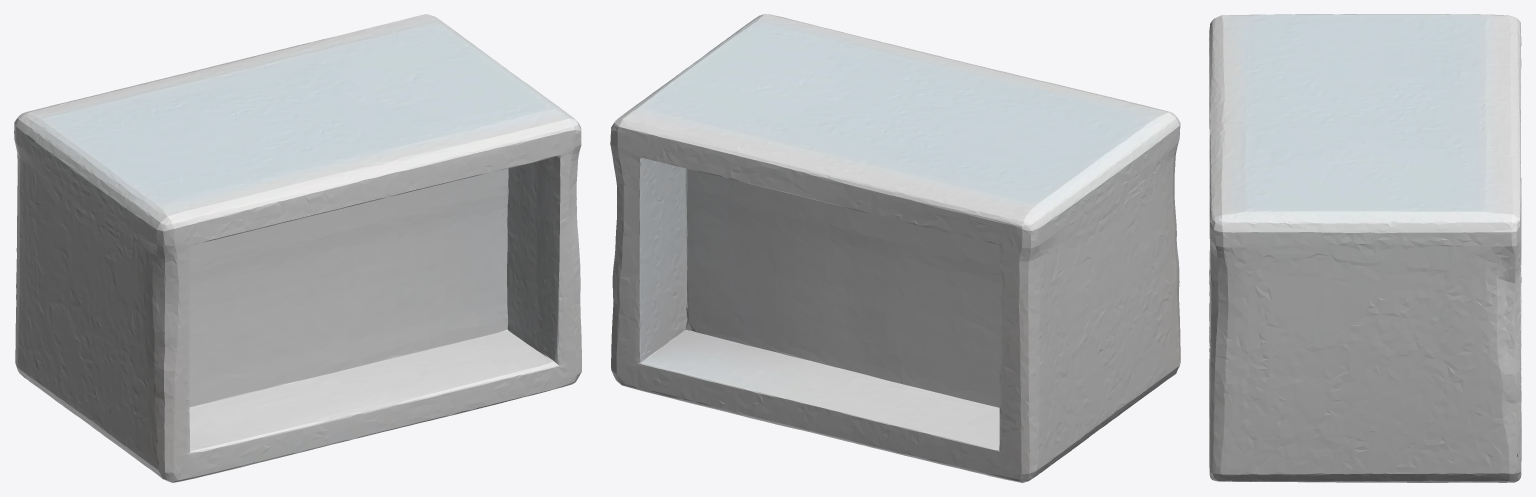
The picture shows the model from 3 angles, left to right: view 1: azimuth 30°, elevation 25°; view 2: azimuth 150°, elevation 25°; view 3: azimuth 270°, elevation 25°; orthographic projection.
Parts seen in each view (by area): view 1: geometry_0; view 2: geometry_0; view 3: geometry_0.
Part boxes in pixels (bbox=[...]): geometry_0: bbox=[14, 14, 581, 482]; geometry_0: bbox=[610, 14, 1180, 482]; geometry_0: bbox=[1209, 14, 1521, 482].
Size of the model in its own units: 1 by 0.6071 by 0.6253.
1 material, 1 textured.
